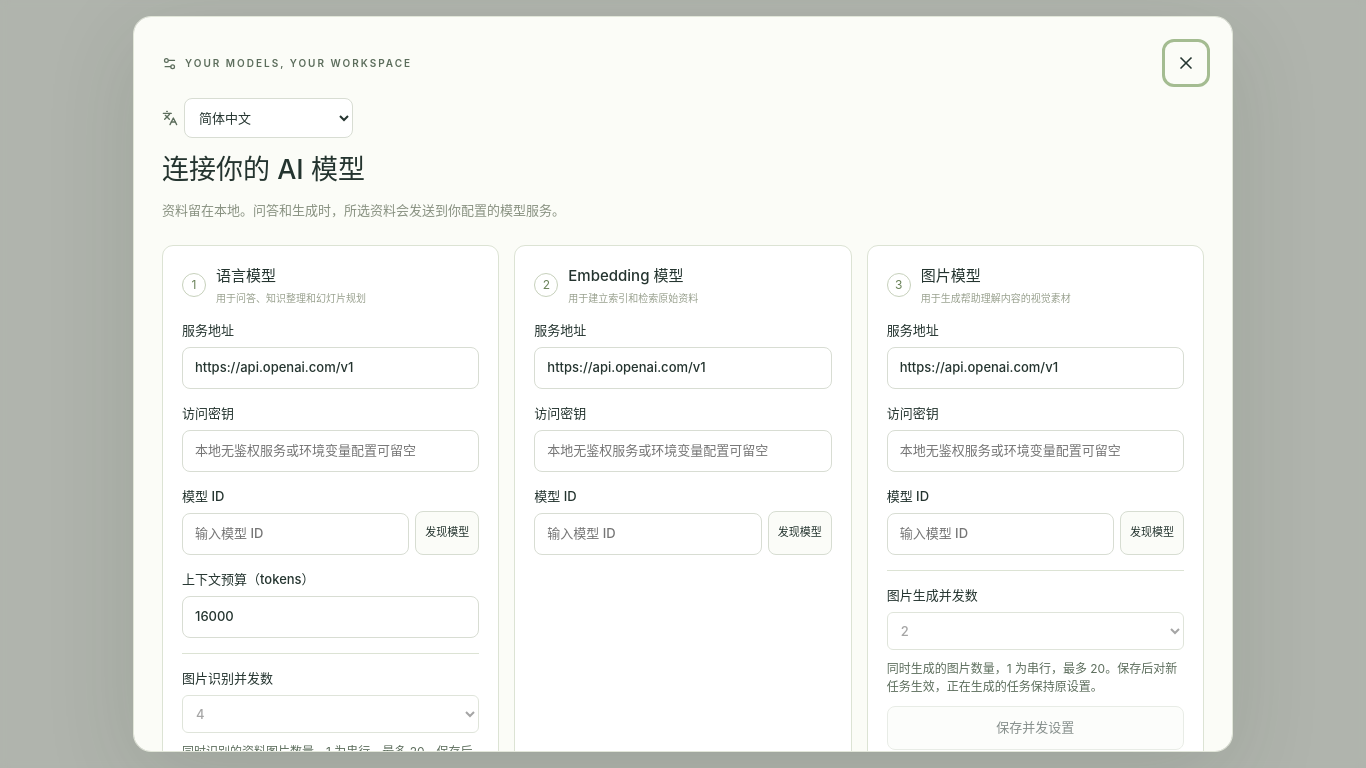
translated UI keeps editable content › preserves model drafts and translates an existing error when switching languages
Type "我的-model" into the field labelled "模型 ID" below "用于问答、知识整理和幻灯片规划" at [296, 534], box [182,513,409,554]
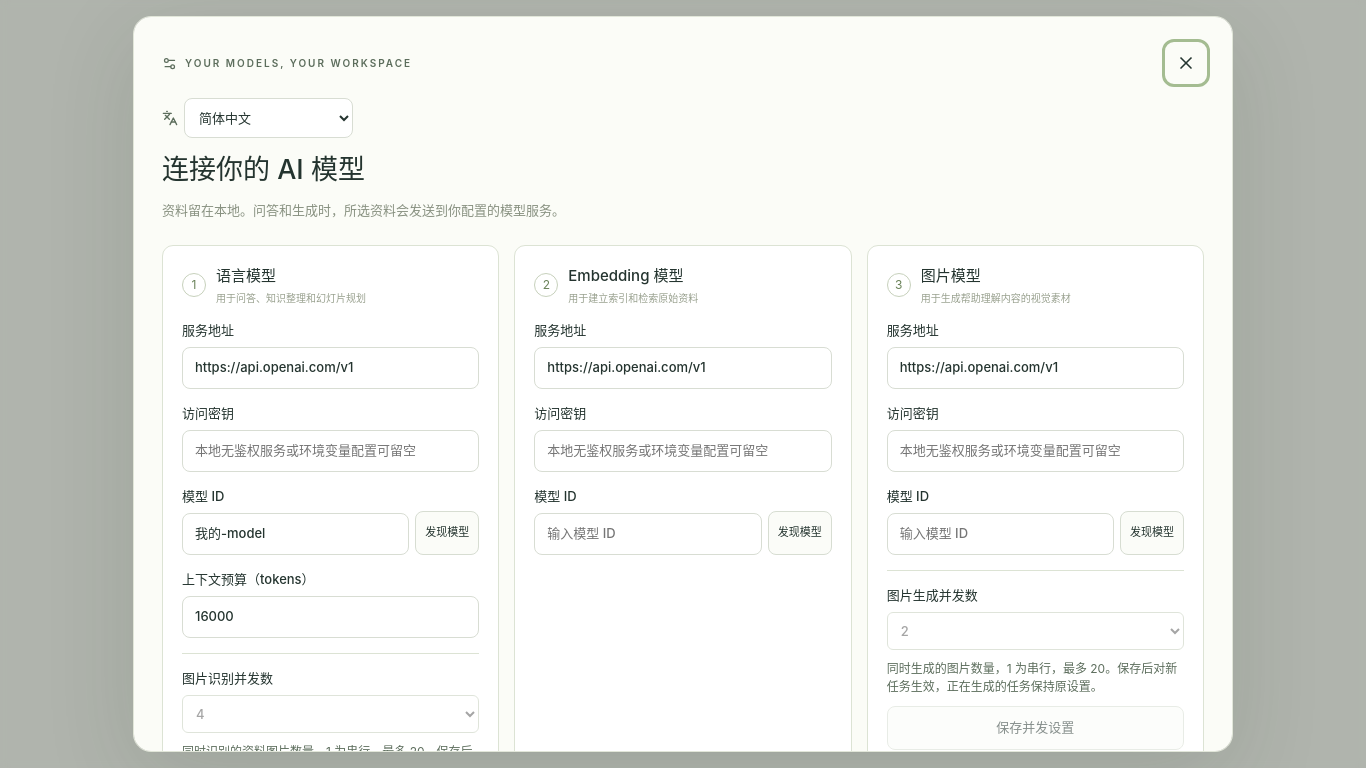
Type "draft-key" into the password field labelled "访问密钥" below "用于问答、知识整理和幻灯片规划" at [331, 451], box [182,430,479,472]
(page scrolled)
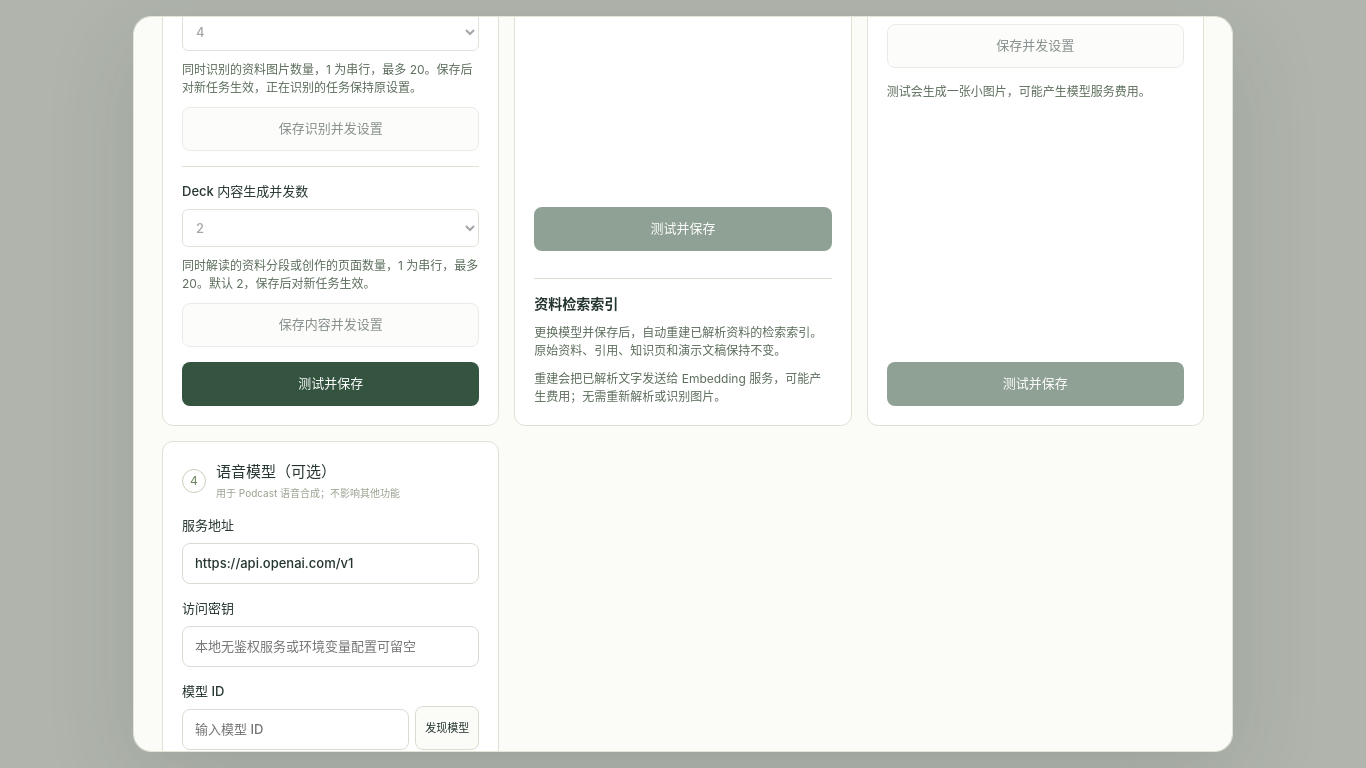
Click the button "测试并保存" below "Deck 内容生成并发数" at [331, 384], box [182,362,479,406]
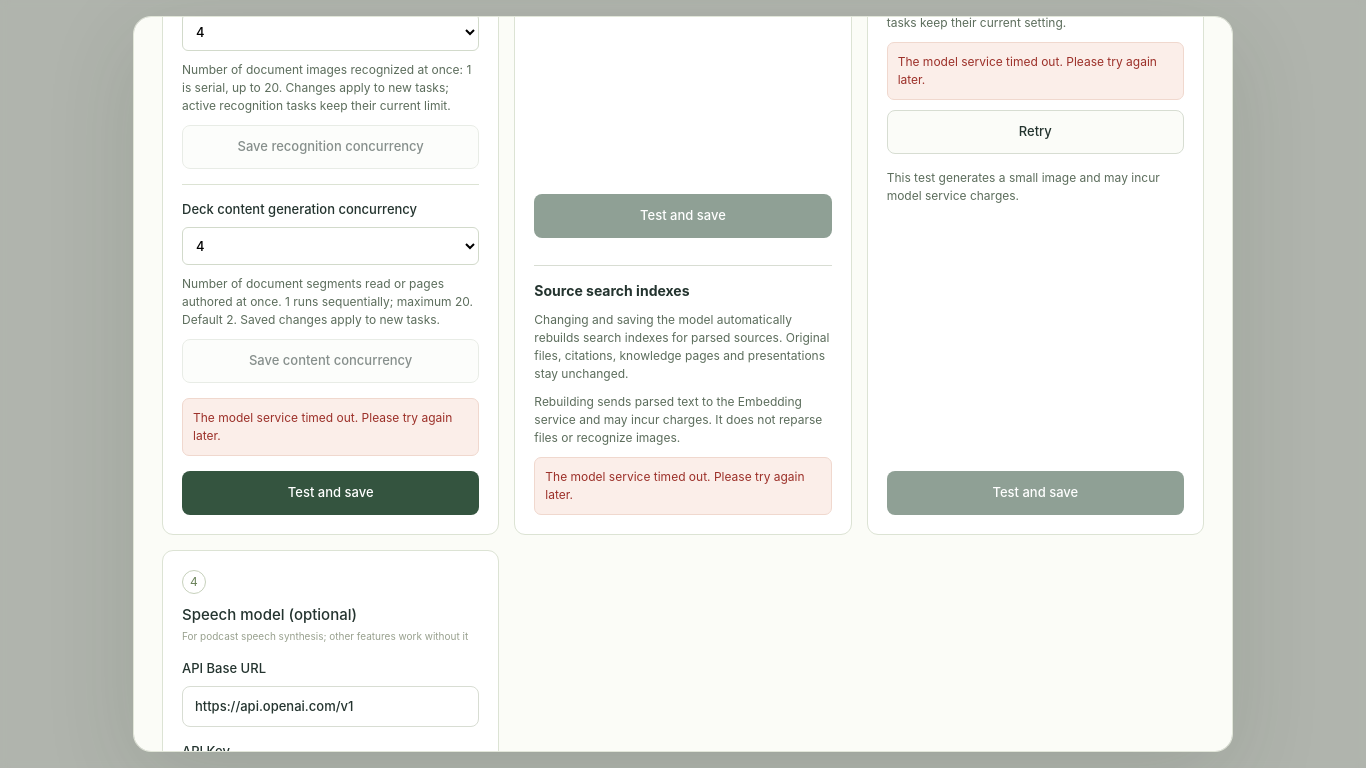
Check: the message "The model service timed out. Please try again later." below "Deck content generation concurrency" is shown, box [193,410,452,442]
